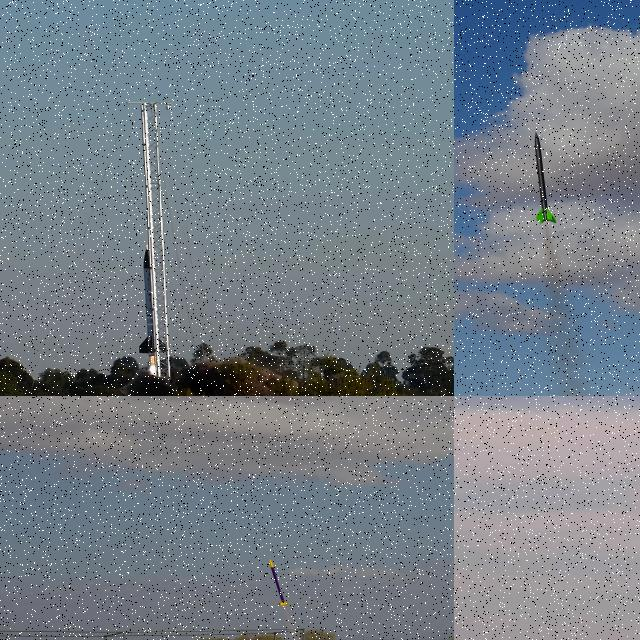Rocket: (139, 250, 168, 356), (534, 132, 557, 225), (268, 559, 290, 606)
